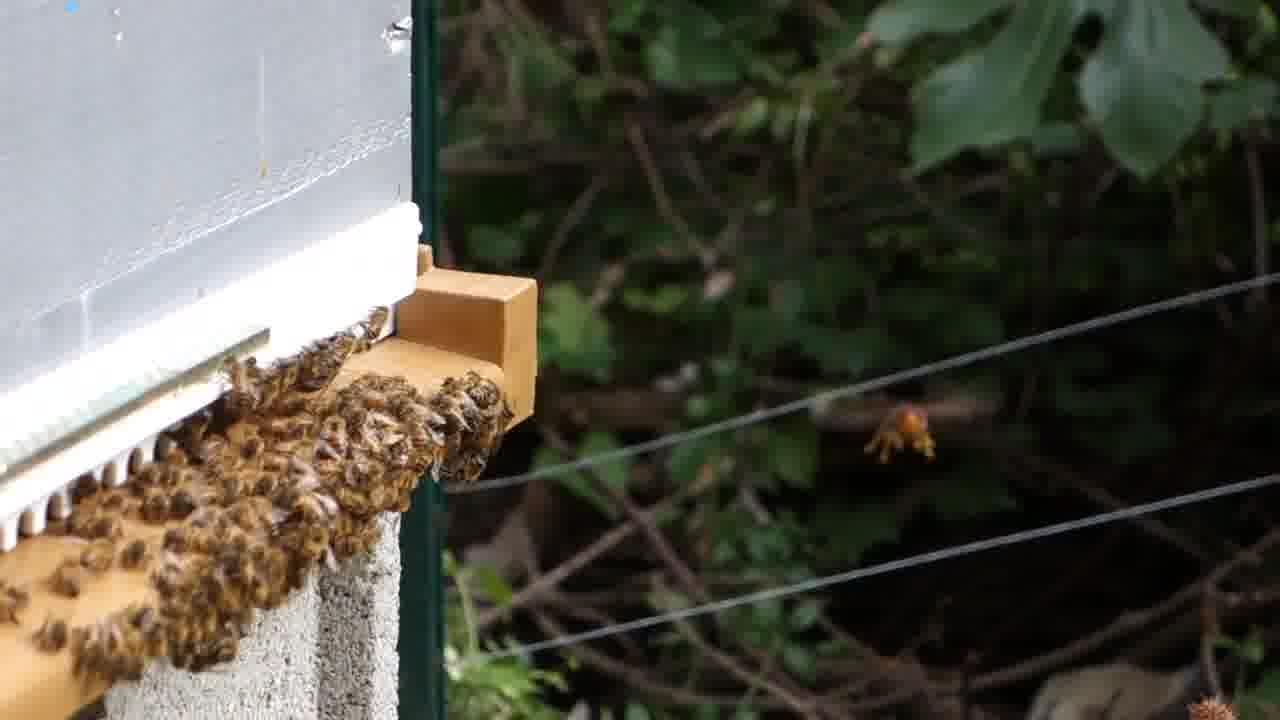bee: (161, 505, 297, 663), (202, 419, 454, 495), (46, 612, 162, 679), (287, 499, 393, 557), (456, 364, 500, 479), (288, 337, 361, 406), (357, 375, 453, 426), (128, 461, 200, 528), (213, 344, 279, 412), (359, 296, 399, 347)
hornet: (881, 402, 948, 462)
